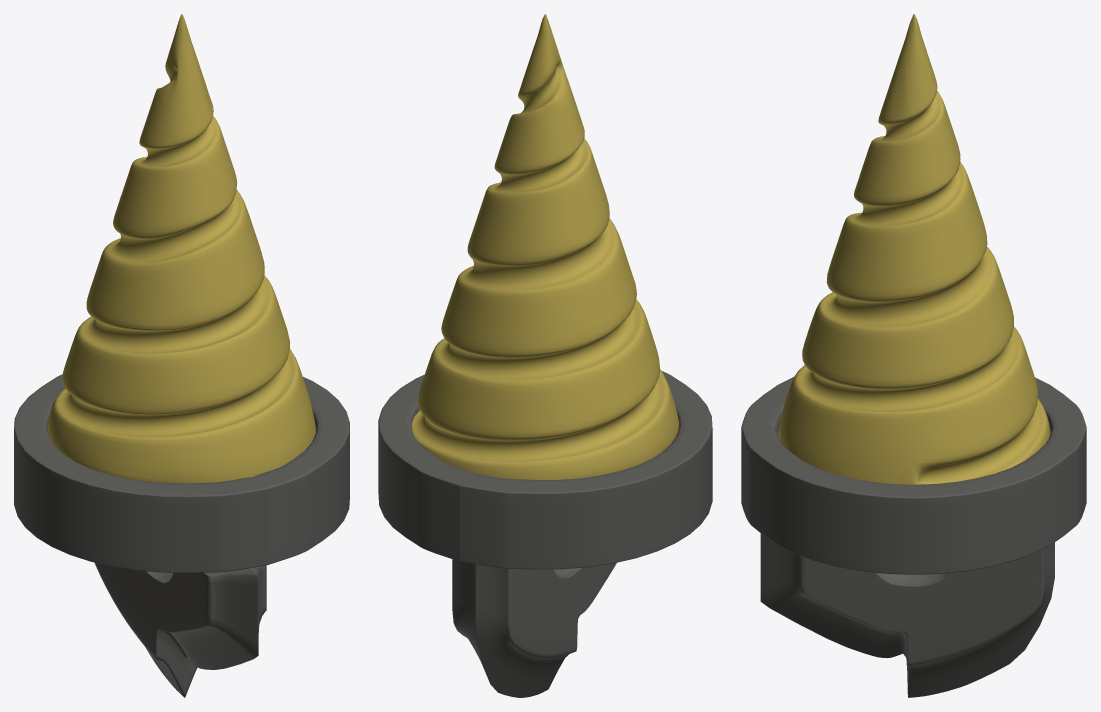
The picture shows the model from 3 angles, left to right: view 1: azimuth 30°, elevation 25°; view 2: azimuth 150°, elevation 25°; view 3: azimuth 270°, elevation 25°; orthographic projection.
Parts seen in each view (by area): view 1: FINAL_DRILL, HIgh_Poly_Handle; view 2: FINAL_DRILL, HIgh_Poly_Handle; view 3: FINAL_DRILL, HIgh_Poly_Handle.
Part boxes in pixels (box(x1,y1,x2,y2)): FINAL_DRILL: box(47, 14, 315, 483); HIgh_Poly_Handle: box(14, 374, 349, 697); FINAL_DRILL: box(411, 14, 679, 479); HIgh_Poly_Handle: box(378, 370, 712, 697); FINAL_DRILL: box(779, 14, 1050, 484); HIgh_Poly_Handle: box(741, 377, 1086, 697).
Size of the model in its own units: 0.8692 by 1.94 by 0.8898.
